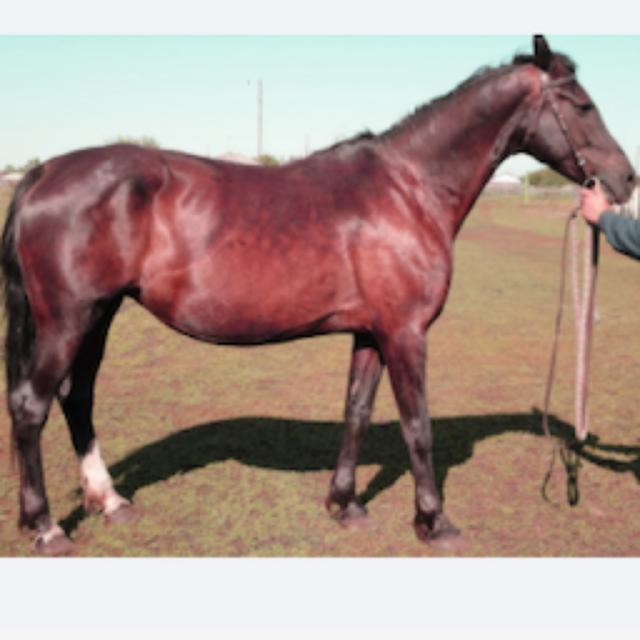Horse: (2, 30, 640, 552)
